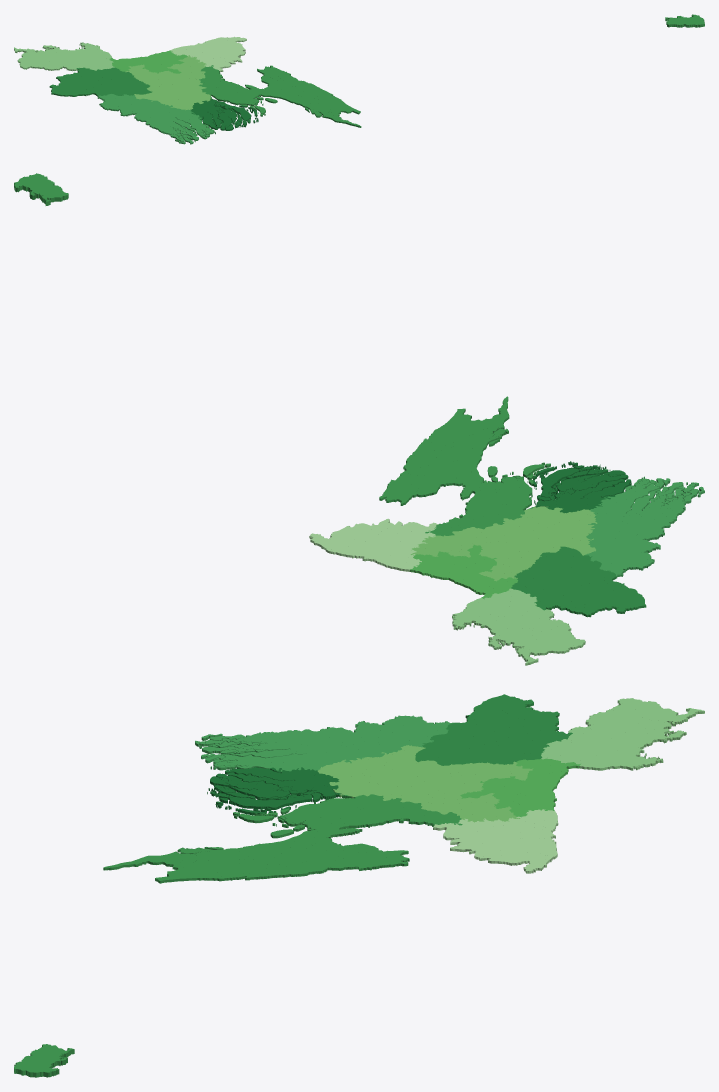
File: areas.glb
The picture shows the model from 3 angles, top to bottom: view 1: azimuth 30°, elevation 25°; view 2: azimuth 150°, elevation 25°; view 3: azimuth 270°, elevation 25°; orthographic projection. The views are drawn at different scales.
Parts seen in each view (by area): view 1: Chittagong__Bandarban__Rangpur, Khulna__Satkhira__Shyamnagar; view 2: Chittagong__Bandarban__Rangpur; view 3: Chittagong__Bandarban__Rangpur, Chittagong__Rangamati__Baghai_Chhari, Khulna__Satkhira__Shyamnagar, Khulna__Bagerhat__Koyra, Chittagong__Rangamati__Belai_Chhari, Khulna__Bagerhat__Mongla, Chittagong__Bandarban__Thanchi.
Part boxes in pixels (x1,y1,x2,y2): Chittagong__Bandarban__Rangpur: (665, 14, 704, 27); Khulna__Satkhira__Shyamnagar: (162, 128, 193, 144); Chittagong__Bandarban__Rangpur: (14, 173, 68, 205); Chittagong__Bandarban__Rangpur: (14, 1044, 74, 1077); Chittagong__Rangamati__Baghai_Chhari: (331, 854, 409, 870); Khulna__Satkhira__Shyamnagar: (195, 732, 271, 747); Khulna__Bagerhat__Koyra: (199, 742, 283, 754); Chittagong__Rangamati__Belai_Chhari: (217, 864, 291, 881); Khulna__Bagerhat__Mongla: (201, 754, 288, 763); Chittagong__Bandarban__Thanchi: (155, 866, 224, 883).
Bounding box in the file's own units: 28.43 × 2.32 × 18.2.
